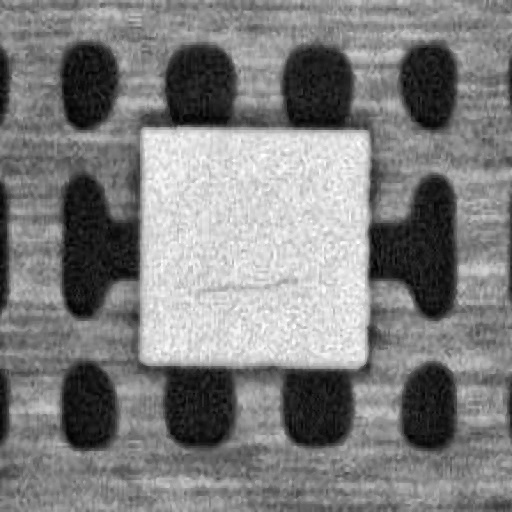DIE_CRACK: (193, 274, 298, 294)
